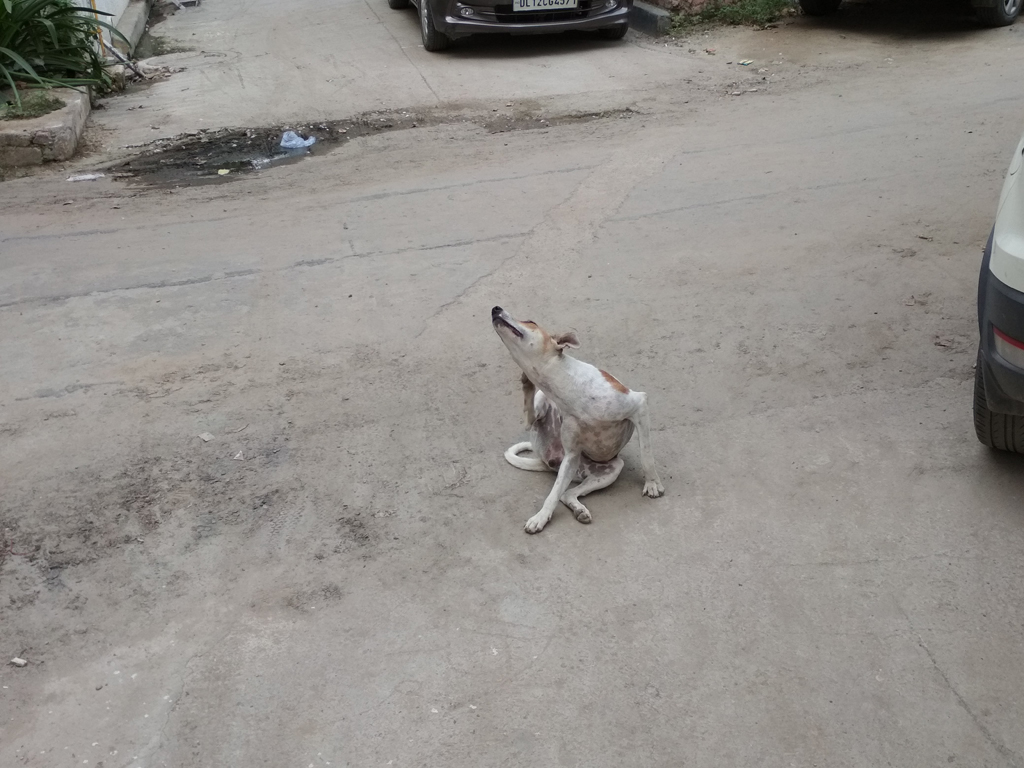dog: (492, 306, 665, 535)
